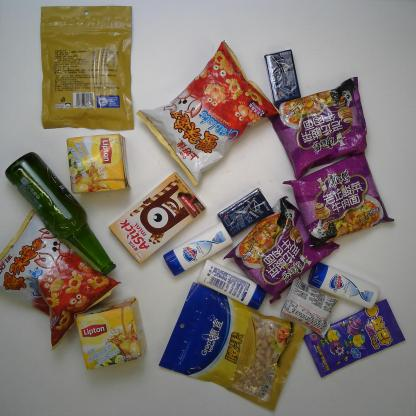Alcohol: (5, 151, 117, 275)
Candy: (300, 298, 408, 376)
Dessert: (108, 172, 205, 266), (278, 277, 338, 338)
Dried Fruit: (160, 282, 306, 409), (38, 3, 138, 130)
Gum: (216, 187, 274, 239), (265, 48, 303, 105)
Instant Drink: (70, 296, 144, 370), (61, 130, 131, 194)
Instant Noodles: (222, 195, 340, 303), (281, 150, 396, 248), (267, 77, 368, 176)
Personal Hygiene: (309, 260, 381, 308), (198, 260, 266, 310), (164, 224, 230, 275)
Puffed Food: (137, 39, 283, 185), (0, 210, 121, 352)
